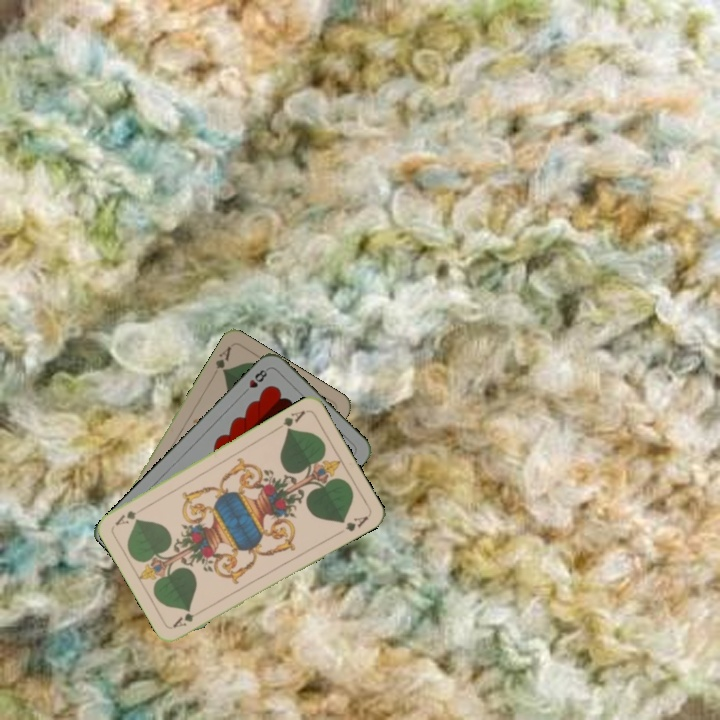GA: (272, 406, 308, 434), (168, 605, 206, 630), (211, 342, 234, 376)
H8: (239, 364, 271, 397)
